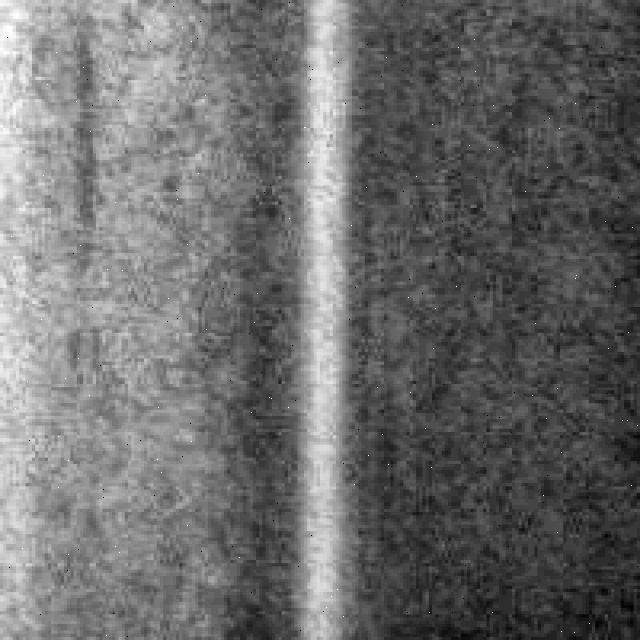Inclusion: (294, 22, 352, 605)
